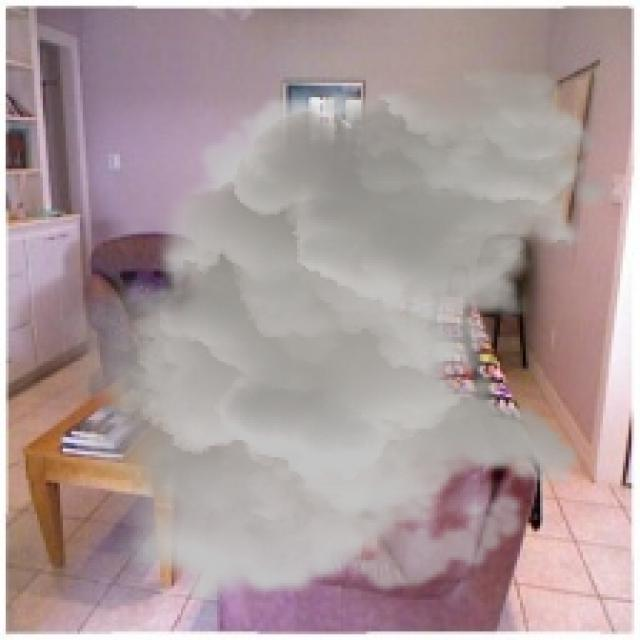smoke: (52, 63, 617, 608)
